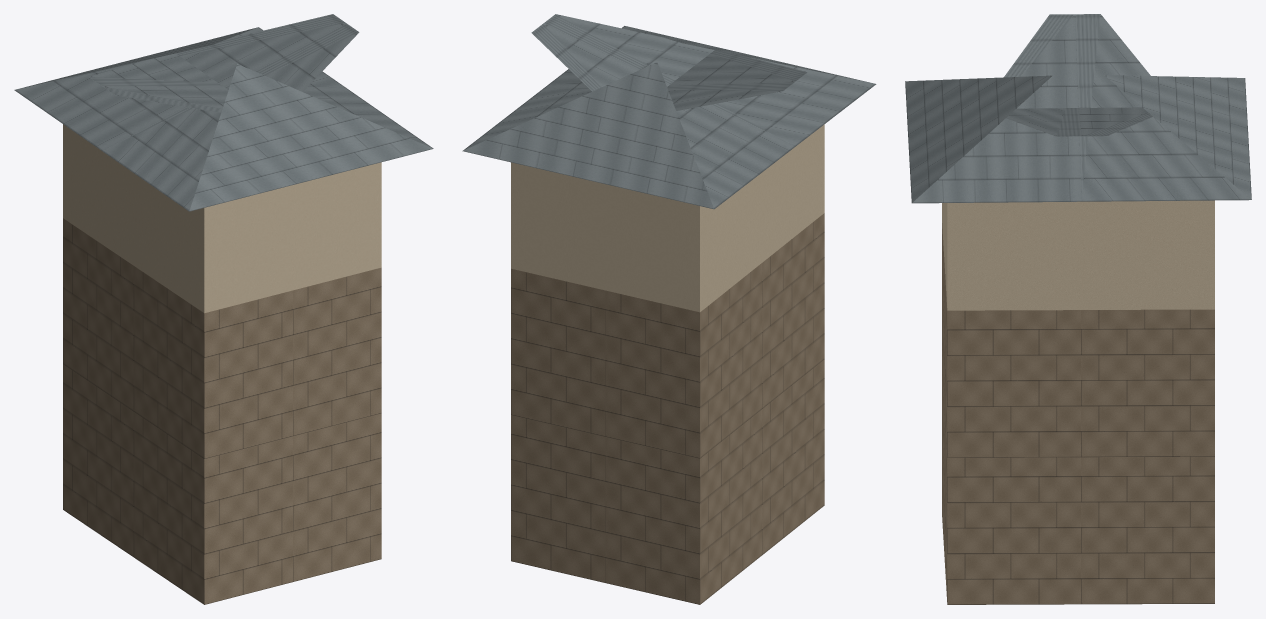
The model's file is bld_c14_24_397.gltf.
The picture shows the model from 3 angles, left to right: view 1: azimuth 30°, elevation 25°; view 2: azimuth 150°, elevation 25°; view 3: azimuth 270°, elevation 25°; orthographic projection.
Visible parts, largest first — view 1: bld_c14_24_397; view 2: bld_c14_24_397; view 3: bld_c14_24_397.
Boxes of the visible parts, left/top/right/bottom form: bld_c14_24_397: left=14, top=14, right=433, bottom=604; bld_c14_24_397: left=462, top=14, right=876, bottom=604; bld_c14_24_397: left=905, top=14, right=1251, bottom=604.
Size of the model in its own units: 4.11 by 7.4 by 4.8.
Materials: 3 (3 with a texture image).
